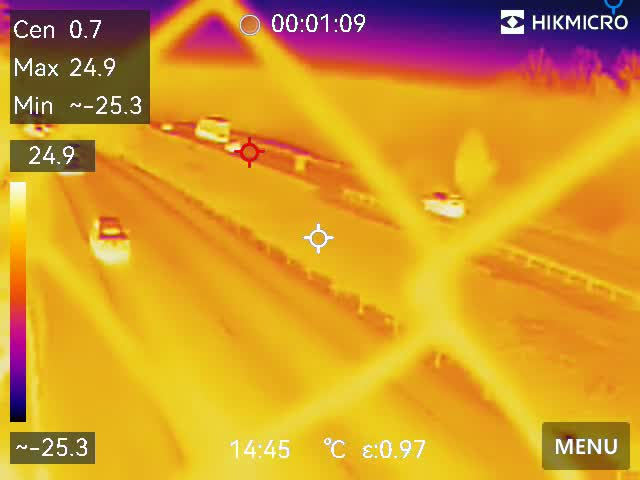heavyTruck: (194, 114, 233, 143)
vehicle: (91, 208, 136, 260), (415, 188, 465, 218)
